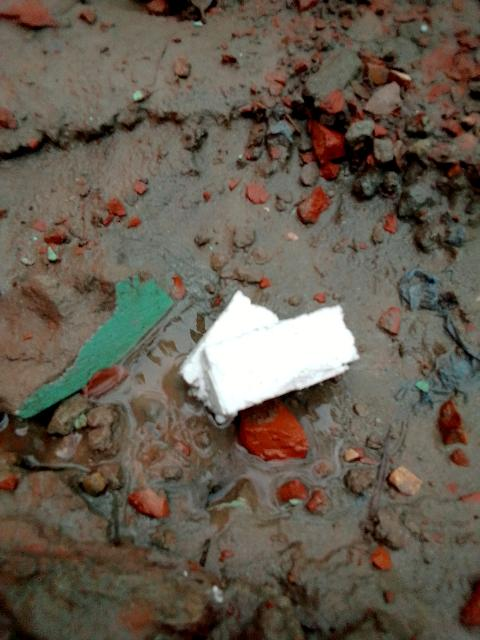cocksheet: (173, 267, 400, 455)
